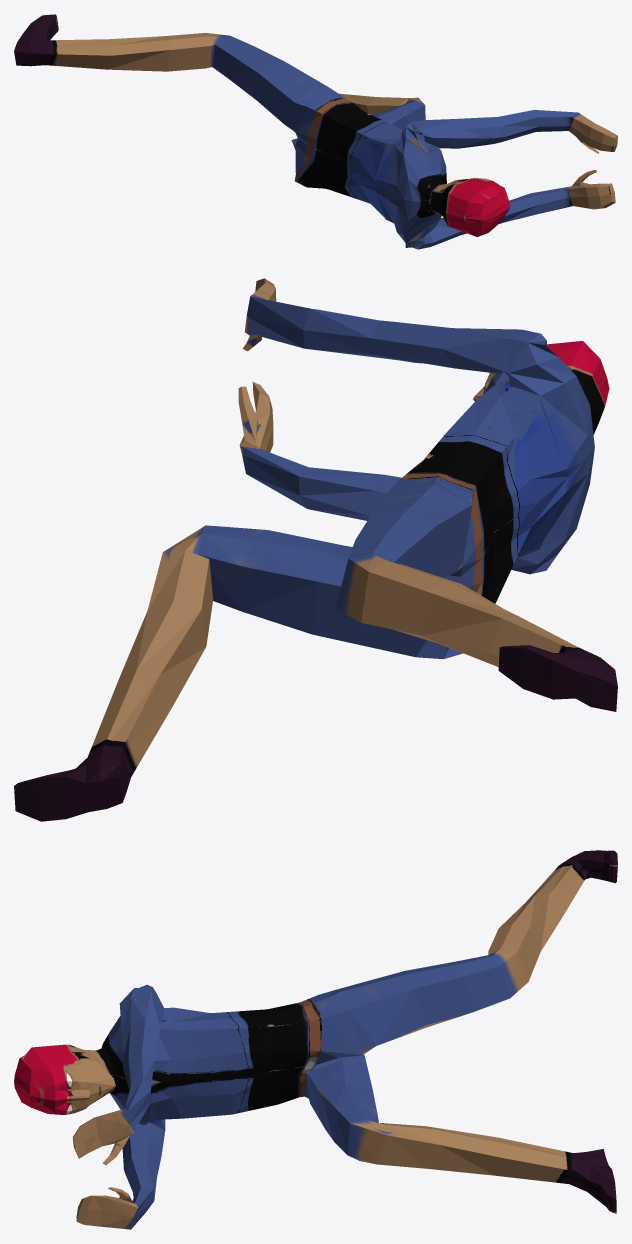
File: mirrorman_000029.obj
3 renders of one model, top to bottom at view 1: azimuth 30°, elevation 25°; view 2: azimuth 150°, elevation 25°; view 3: azimuth 270°, elevation 25°, orthographic. The views are drawn at different scales.
Visible parts, largest first — view 1: mirrorman_Cube.001_Material.001; view 2: mirrorman_Cube.001_Material.001; view 3: mirrorman_Cube.001_Material.001.
Part boxes in pixels (box(x1,y1,x2,y2)): mirrorman_Cube.001_Material.001: box(14, 14, 617, 249); mirrorman_Cube.001_Material.001: box(14, 278, 617, 821); mirrorman_Cube.001_Material.001: box(14, 850, 617, 1229).
Size of the model in its own units: 1.44 by 0.54 by 1.5.
